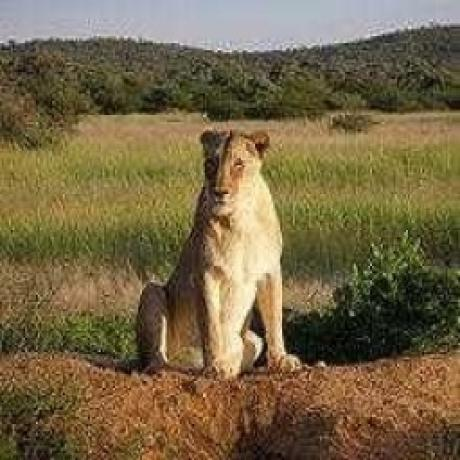Lion: (134, 128, 309, 376)
